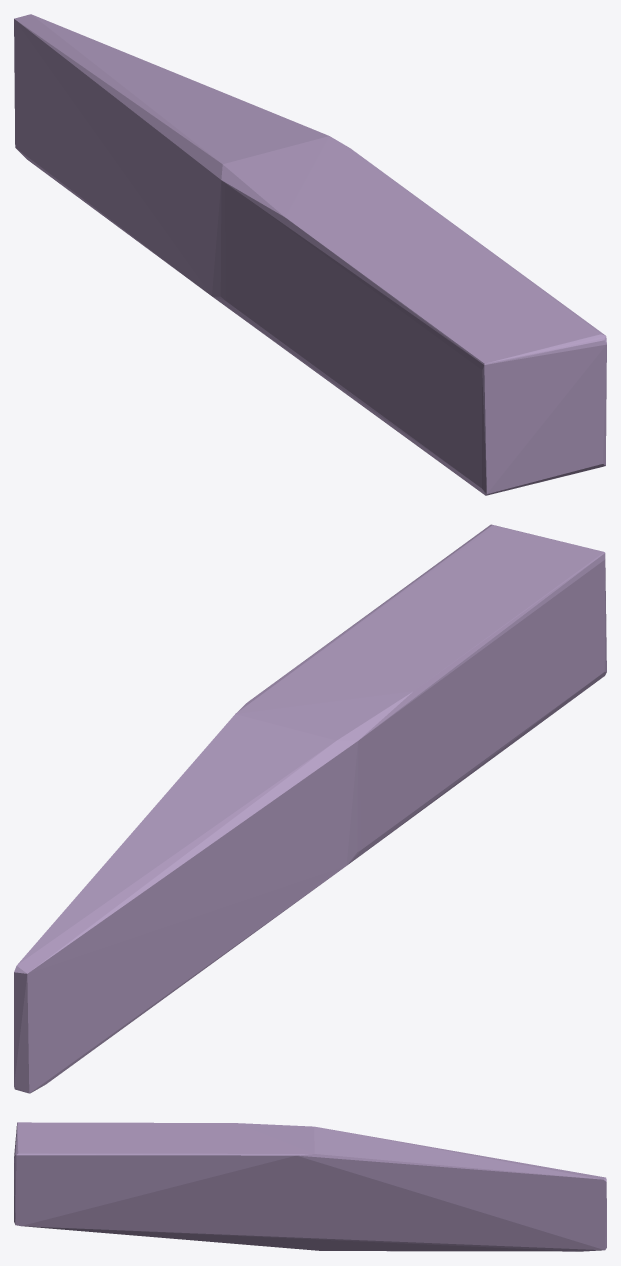
File: purifier_clothes_a01.glb
3 views of the same model, one above another, from view 1: azimuth 30°, elevation 25°; view 2: azimuth 150°, elevation 25°; view 3: azimuth 270°, elevation 25° (orthographic). The views are drawn at different scales.
Parts seen in each view (by area): view 1: geometry_0; view 2: geometry_0; view 3: geometry_0.
Part boxes in pixels (left/top/right/bottom): geometry_0: left=14, top=14, right=606, bottom=495; geometry_0: left=14, top=524, right=606, bottom=1093; geometry_0: left=14, top=1122, right=606, bottom=1251.
Bounding box in the file's own units: 0.0627 × 0.0957 × 0.48.
